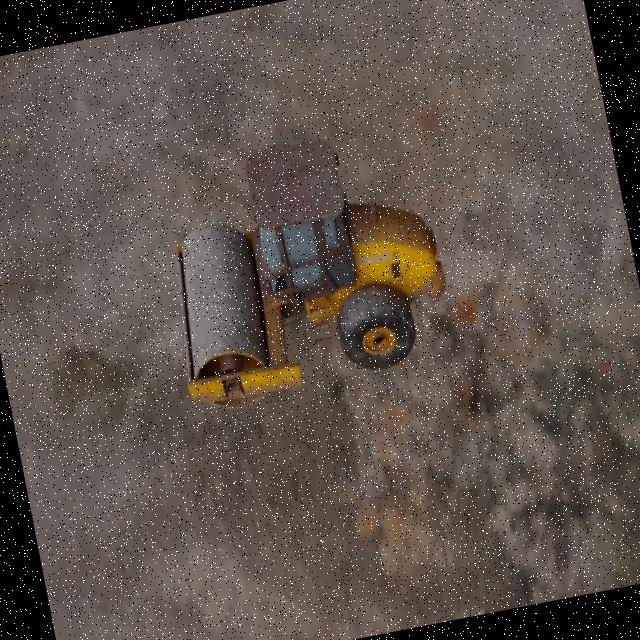Roller: (146, 120, 462, 416)
